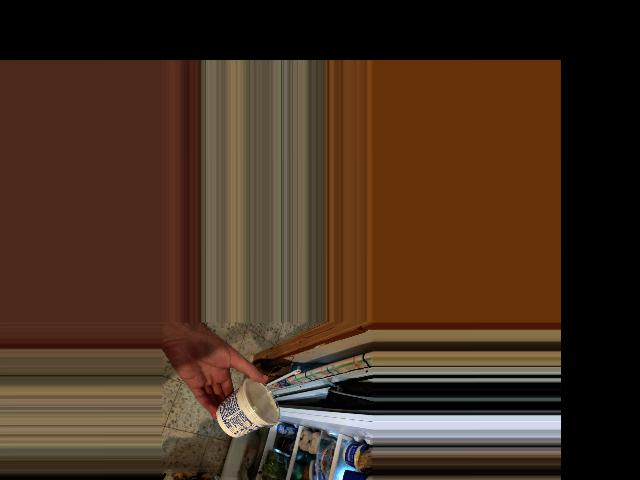cotage: (221, 374, 279, 435)
